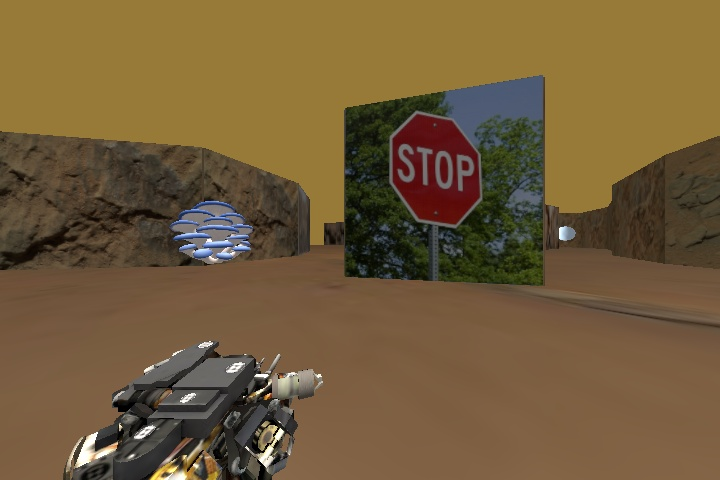mushroom: (172, 198, 256, 265)
sign: (391, 112, 482, 227)
sphere: (557, 225, 576, 241)
